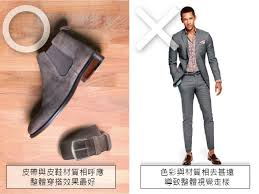F_belt: (179, 68, 207, 80)
